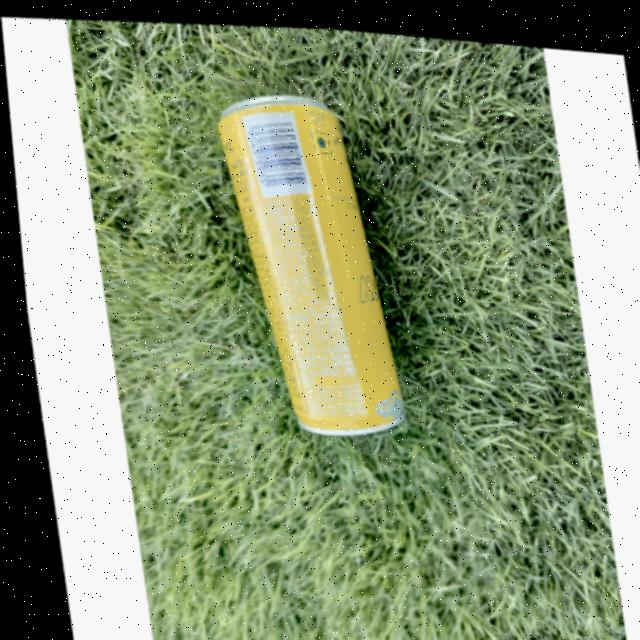Redbull Yellow Edition: (210, 74, 405, 441)
